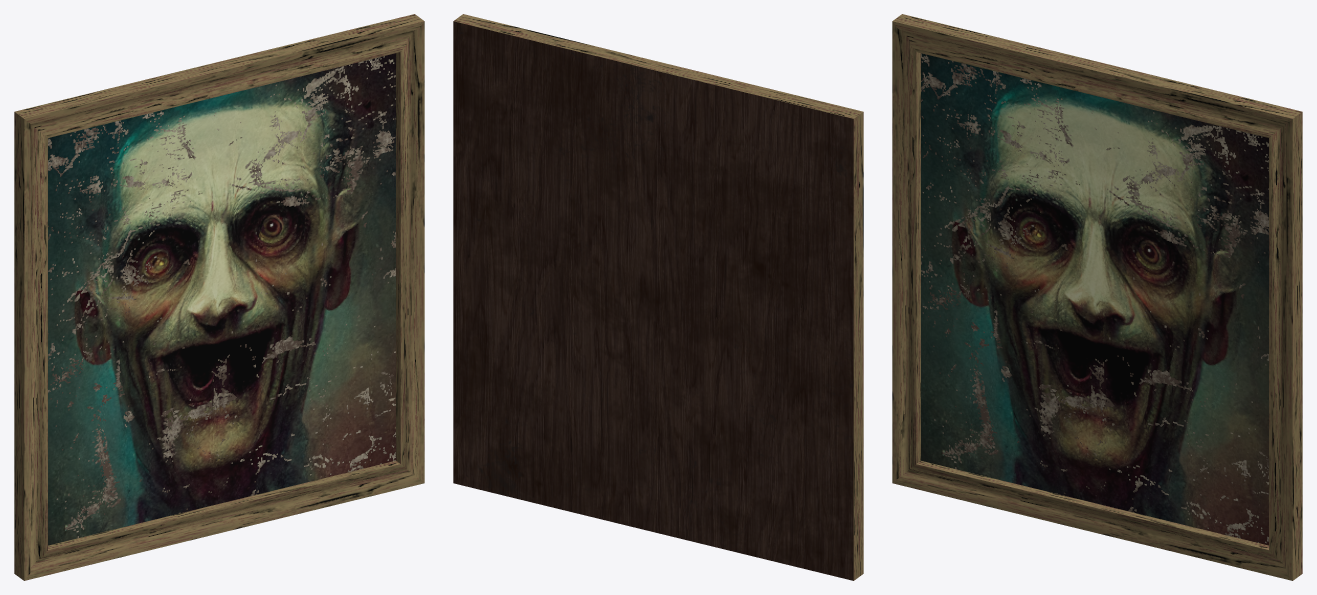
Rendered from SM_Painting_04.fbx.
3 views of the same model, side by side, from view 1: azimuth 30°, elevation 25°; view 2: azimuth 150°, elevation 25°; view 3: azimuth 330°, elevation 25° (orthographic).
Visible parts, largest first — view 1: SM_Painting_04; view 2: SM_Painting_04; view 3: SM_Painting_04.
Part boxes in pixels (bbox=[...]): SM_Painting_04: bbox=[14, 14, 424, 580]; SM_Painting_04: bbox=[453, 14, 863, 580]; SM_Painting_04: bbox=[892, 14, 1302, 580].
Size of the model in its own units: 166 by 183 by 7.1.
